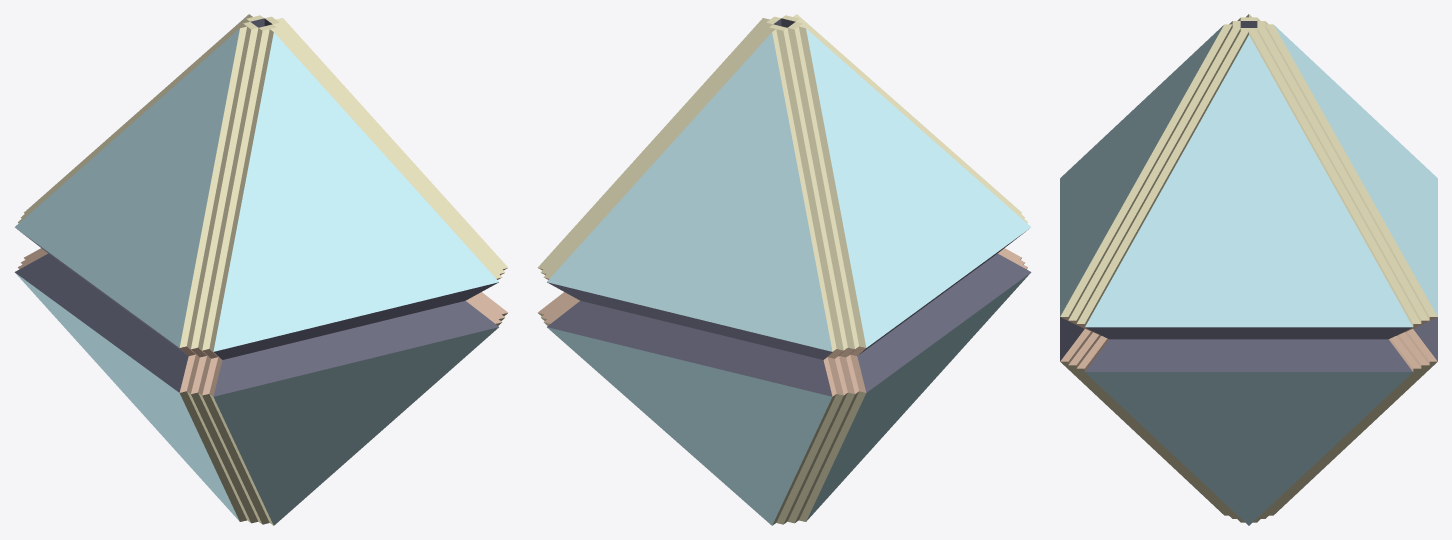
File: roamer_droid.dae
The picture shows the model from 3 angles, left to right: view 1: azimuth 30°, elevation 25°; view 2: azimuth 150°, elevation 25°; view 3: azimuth 270°, elevation 25°; orthographic projection.
Parts seen in each view (by area): view 1: $dummy_node (×4); view 2: $dummy_node (×4); view 3: $dummy_node (×4).
Boxes of the visible parts, <box> form: $dummy_node (×4): <box>14,14,508,525</box>; $dummy_node (×4): <box>537,14,1031,525</box>; $dummy_node (×4): <box>1060,14,1437,525</box>.
Bounding box in the file's own units: 0.46 × 0.66 × 0.46.
